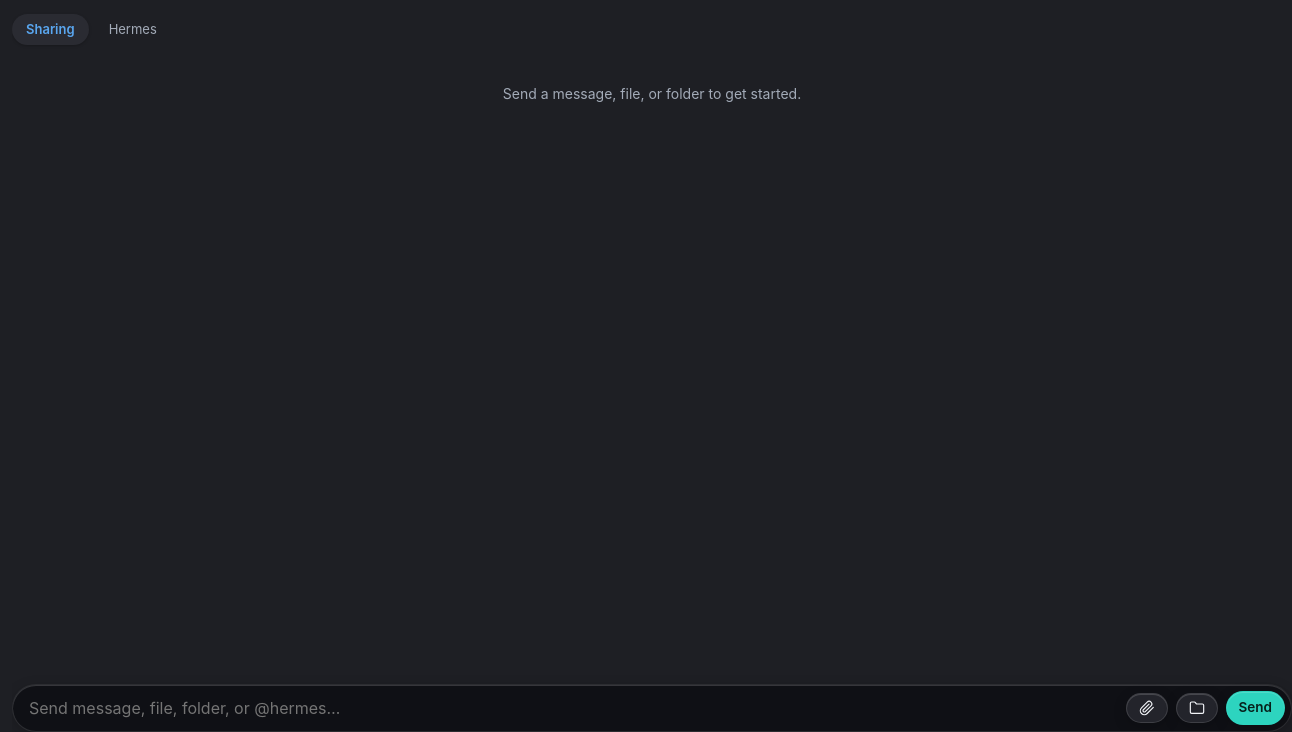
Scenario: ChatPanel › shows the mention menu when typing @
Type "@" into the field with placeholder "Send message, file, folder, or @hermes…" at point(572, 708), box [27, 696, 1118, 721]
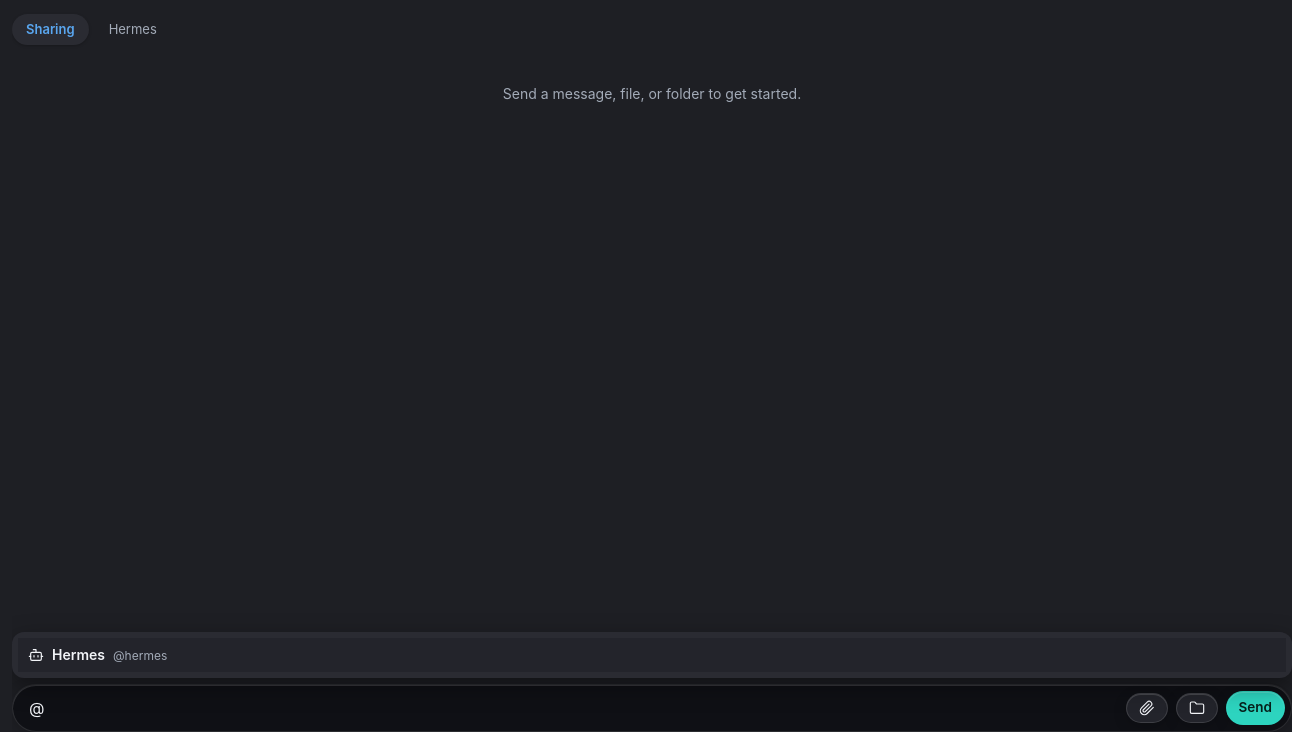
Expected: the text "@hermes" is shown, [113, 647, 167, 664]
